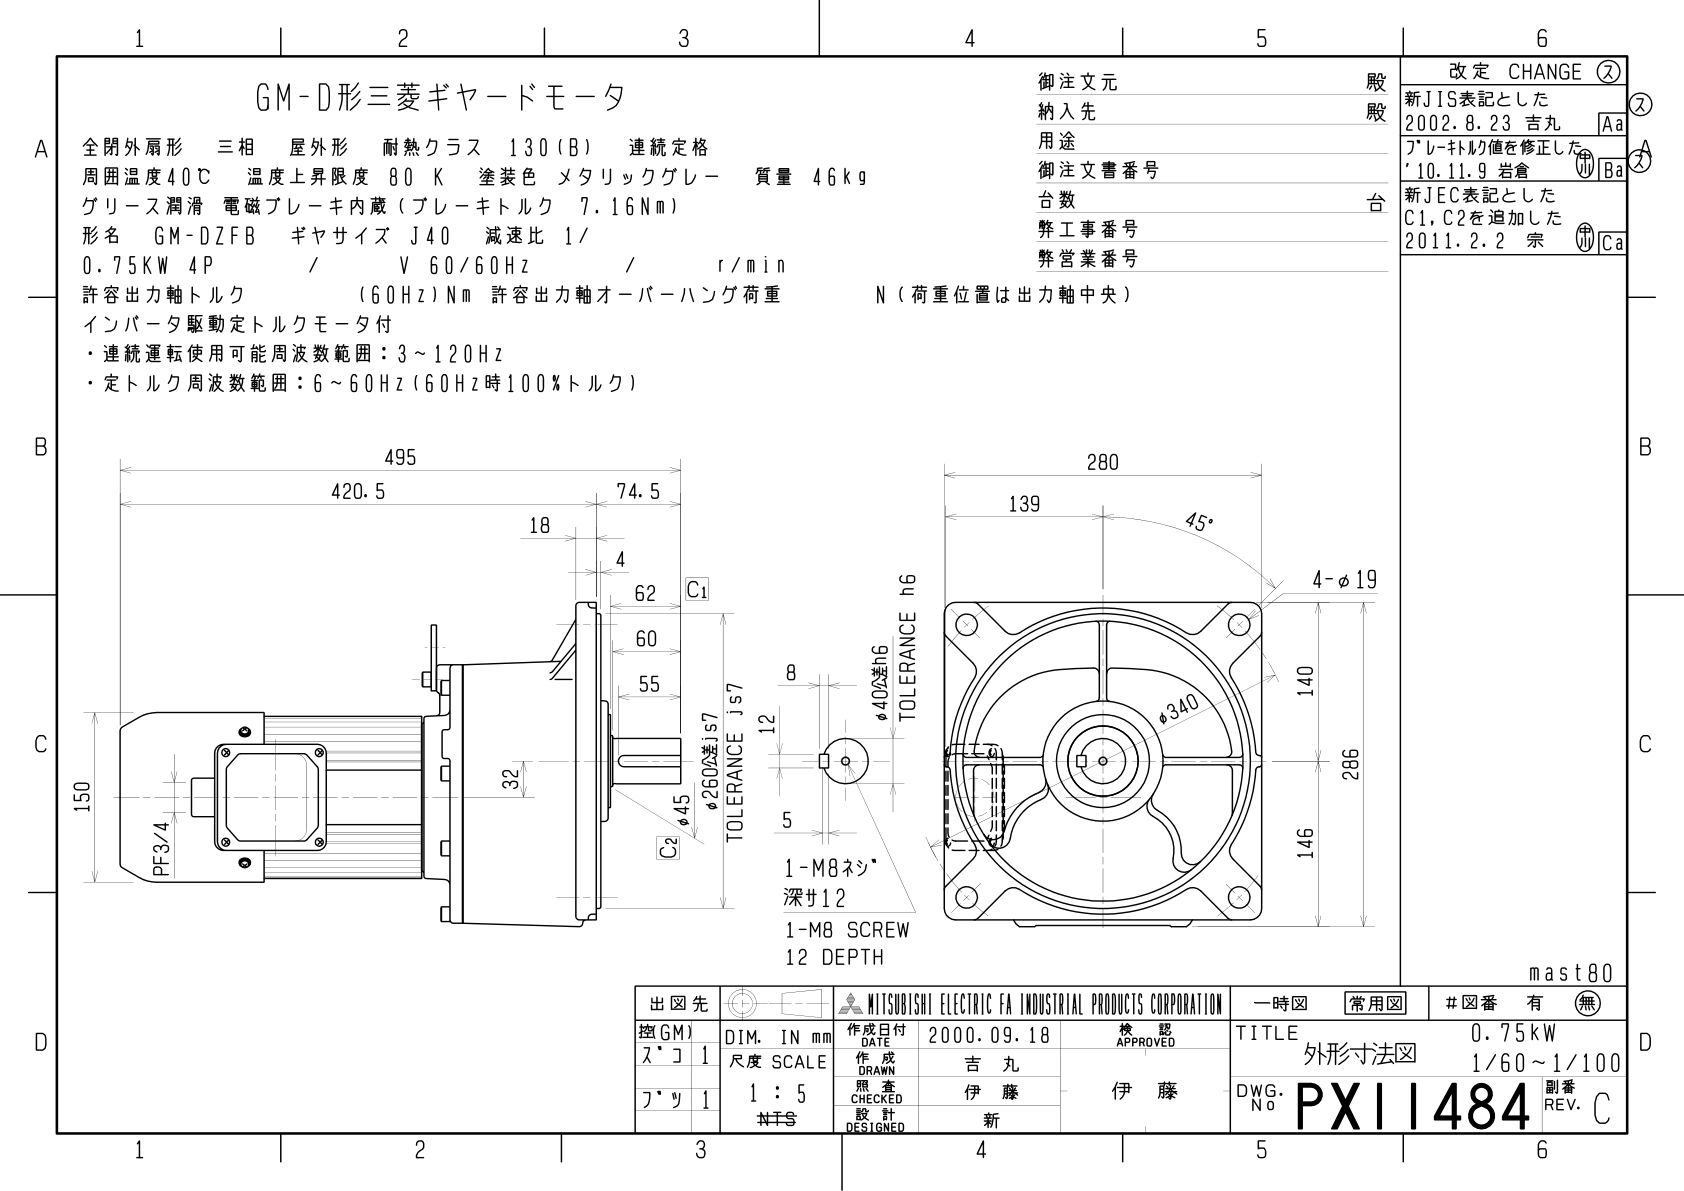GM_D_インバータ屋外_三相_フランジ: (1, 1, 1663, 1178)
